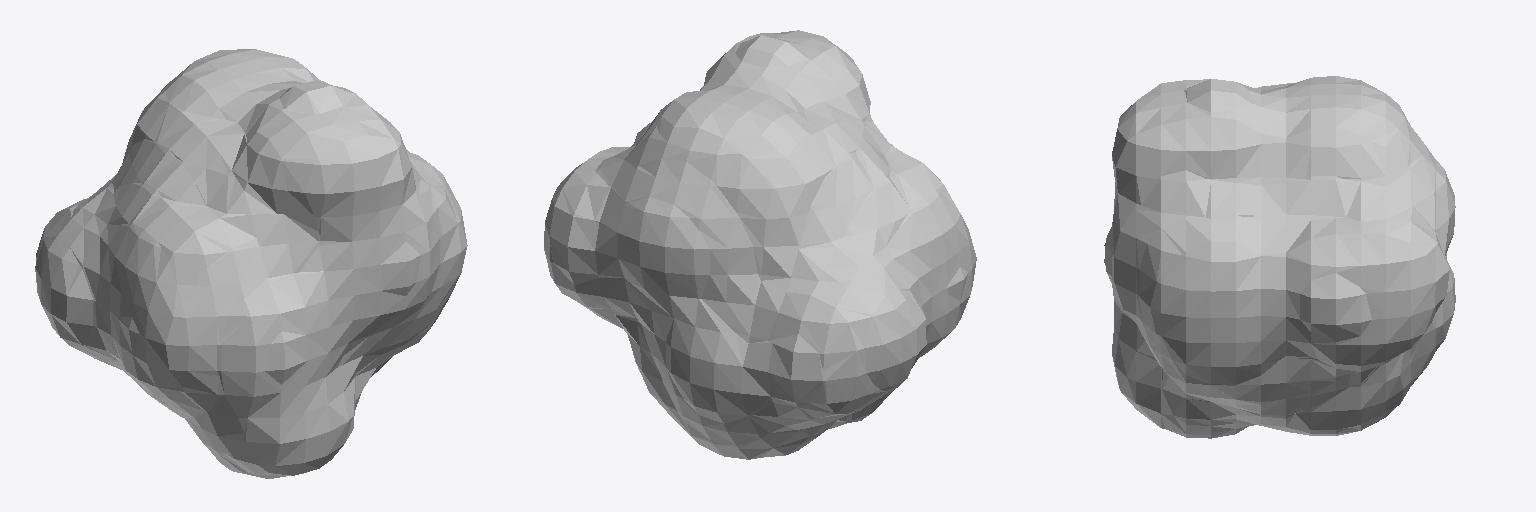
Rendered from 2ja1_1_cms.obj.
3 renders of one model, left to right at view 1: azimuth 30°, elevation 25°; view 2: azimuth 150°, elevation 25°; view 3: azimuth 270°, elevation 25°, orthographic.
Size of the model in its own units: 90.3 by 90.39 by 77.6.